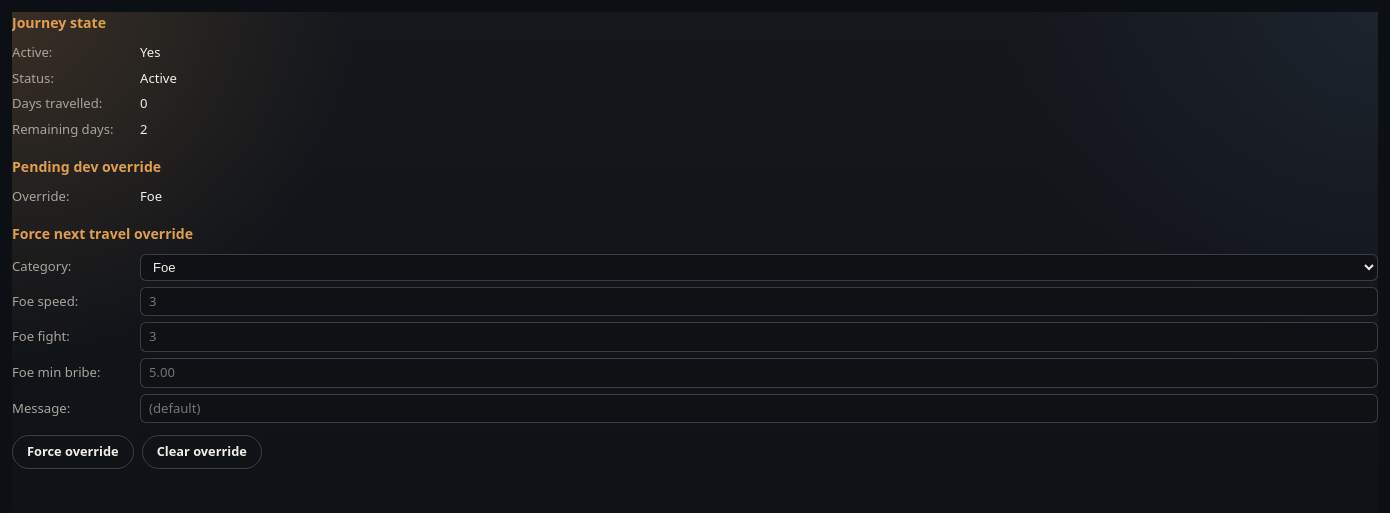
Test: TravelDevPanel › preserves the travel override after a rejected clear and shows its removal after retry
Click the button "Clear override" at (202, 452), box [142,435,262,469]
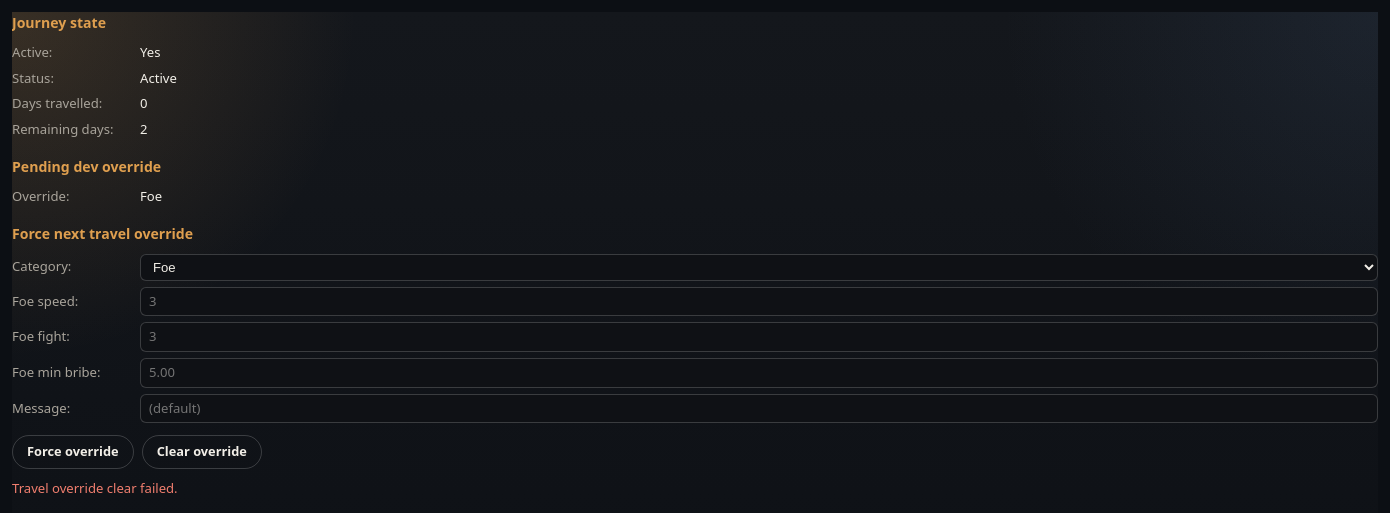
Expected: the button "Force override" is enabled, [12,435,134,469]
Now the text "Travel override clear failed." is shown, box [12,479,178,497]
Click the button "Clear override" at (202, 452), box [142,435,262,469]
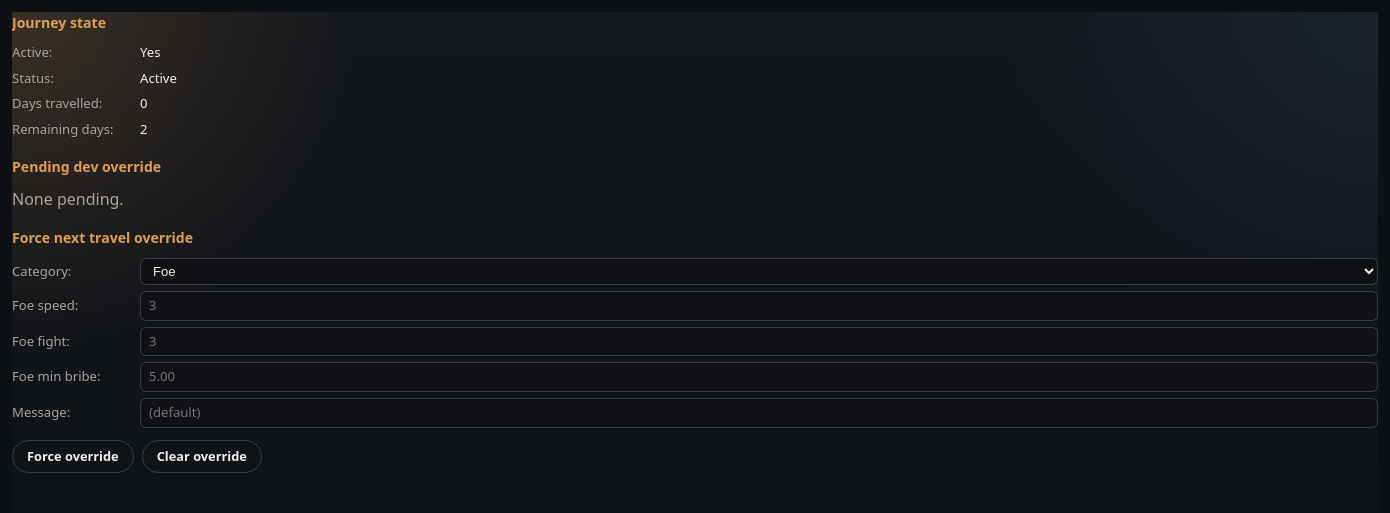
Now the text "None pending." is shown, box [12,188,124,210]
Now the text "Travel override clear failed." is gone
